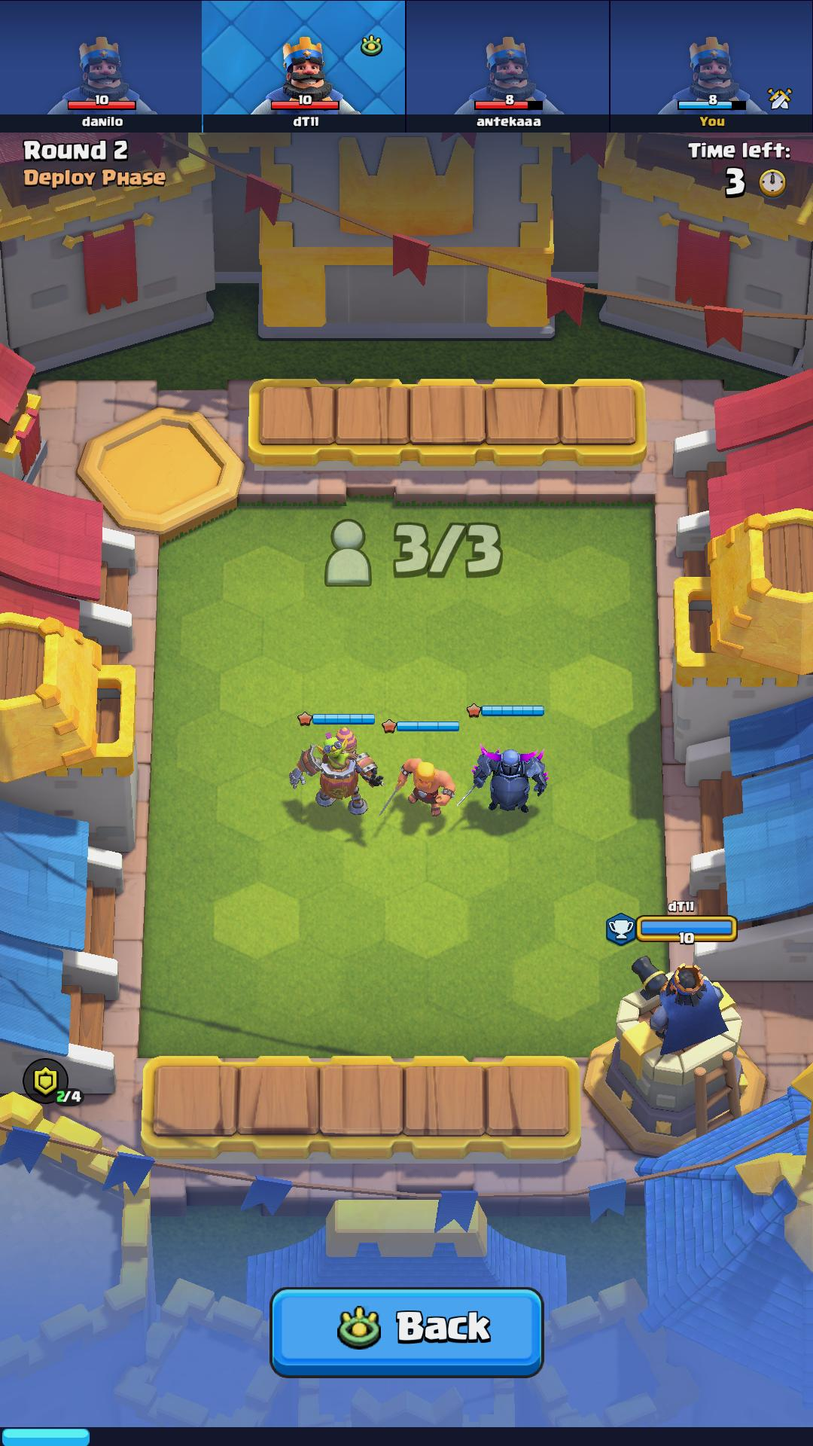barbarian: (388, 747, 461, 817)
machine: (284, 722, 388, 819)
pekka: (455, 736, 553, 816)
